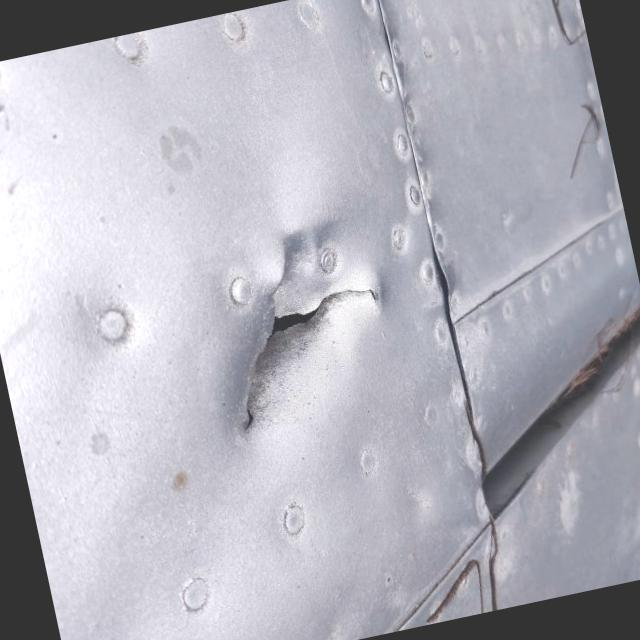crack: (193, 195, 492, 468)
